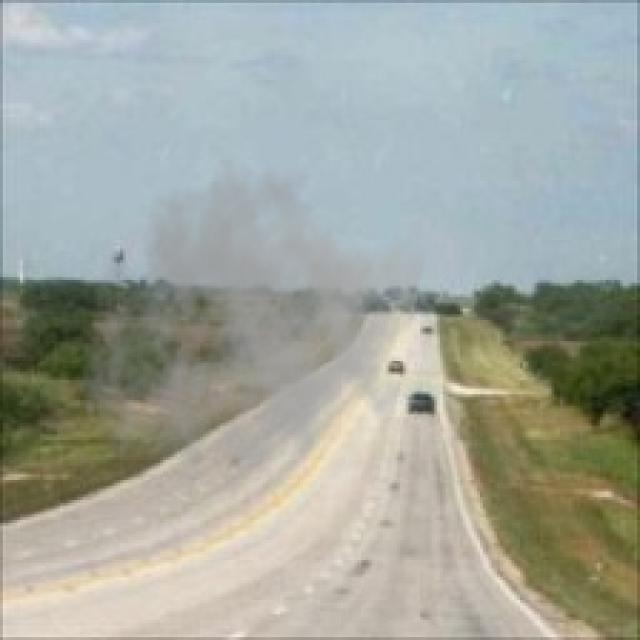Smoke: (77, 148, 429, 518)
